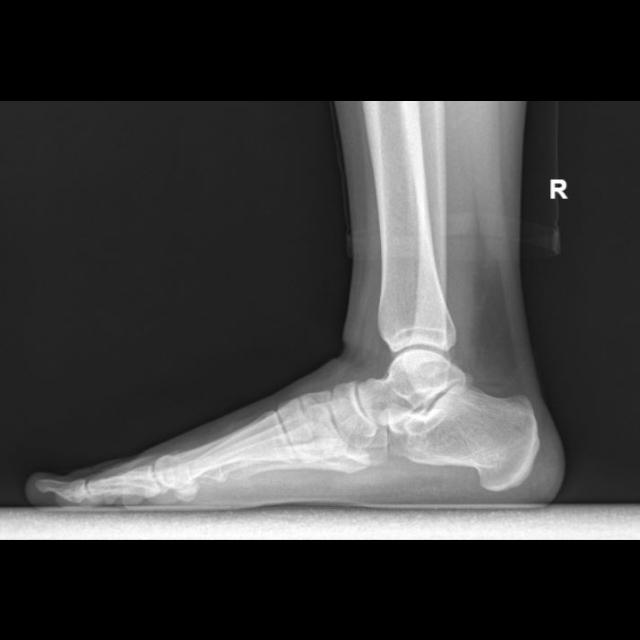a: (406, 380, 538, 491)
b: (331, 379, 377, 447)
c: (155, 410, 297, 501)
